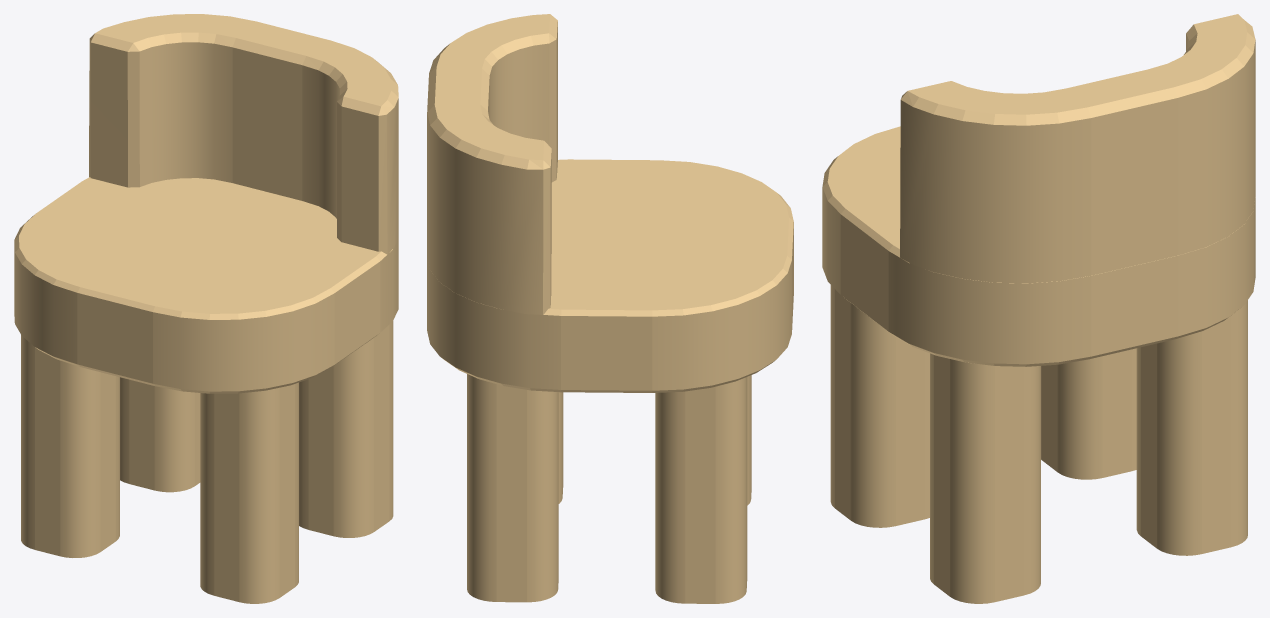
File: play_chair1.FBX
3 renders of one model, left to right at view 1: azimuth 30°, elevation 25°; view 2: azimuth 150°, elevation 25°; view 3: azimuth 270°, elevation 25°, orthographic. The views are drawn at different scales.
Visible parts, largest first — view 1: play chair 1; view 2: play chair 1; view 3: play chair 1.
Boxes of the visible parts, box(x1,y1,x2,y2) form: play chair 1: box(14, 14, 398, 603); play chair 1: box(427, 14, 793, 603); play chair 1: box(822, 14, 1255, 603).
Size of the model in its own units: 14.33 by 17.93 by 14.33.
